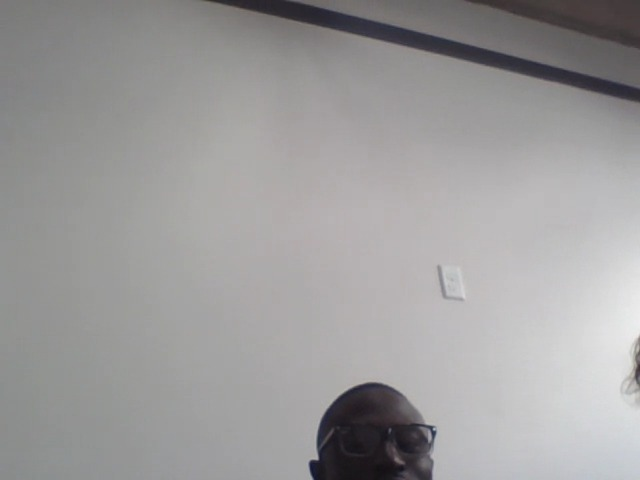face: (320, 389, 436, 480)
